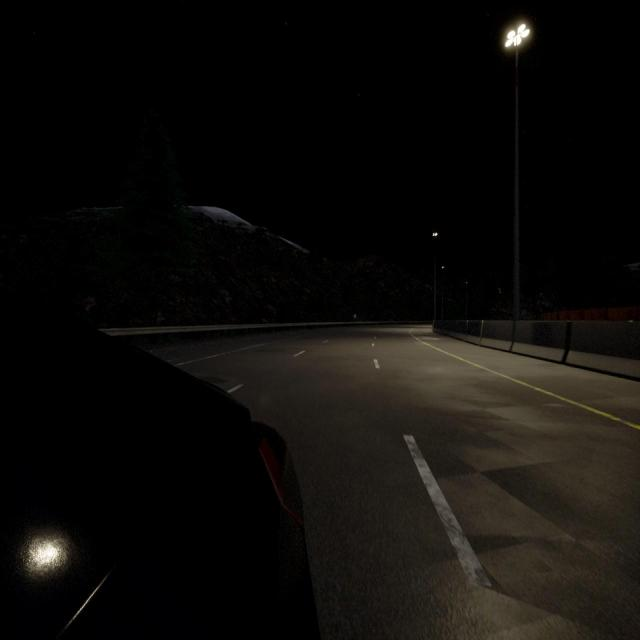Traffic_Signs: (353, 314, 357, 319)
Vehicle: (0, 287, 318, 640)
